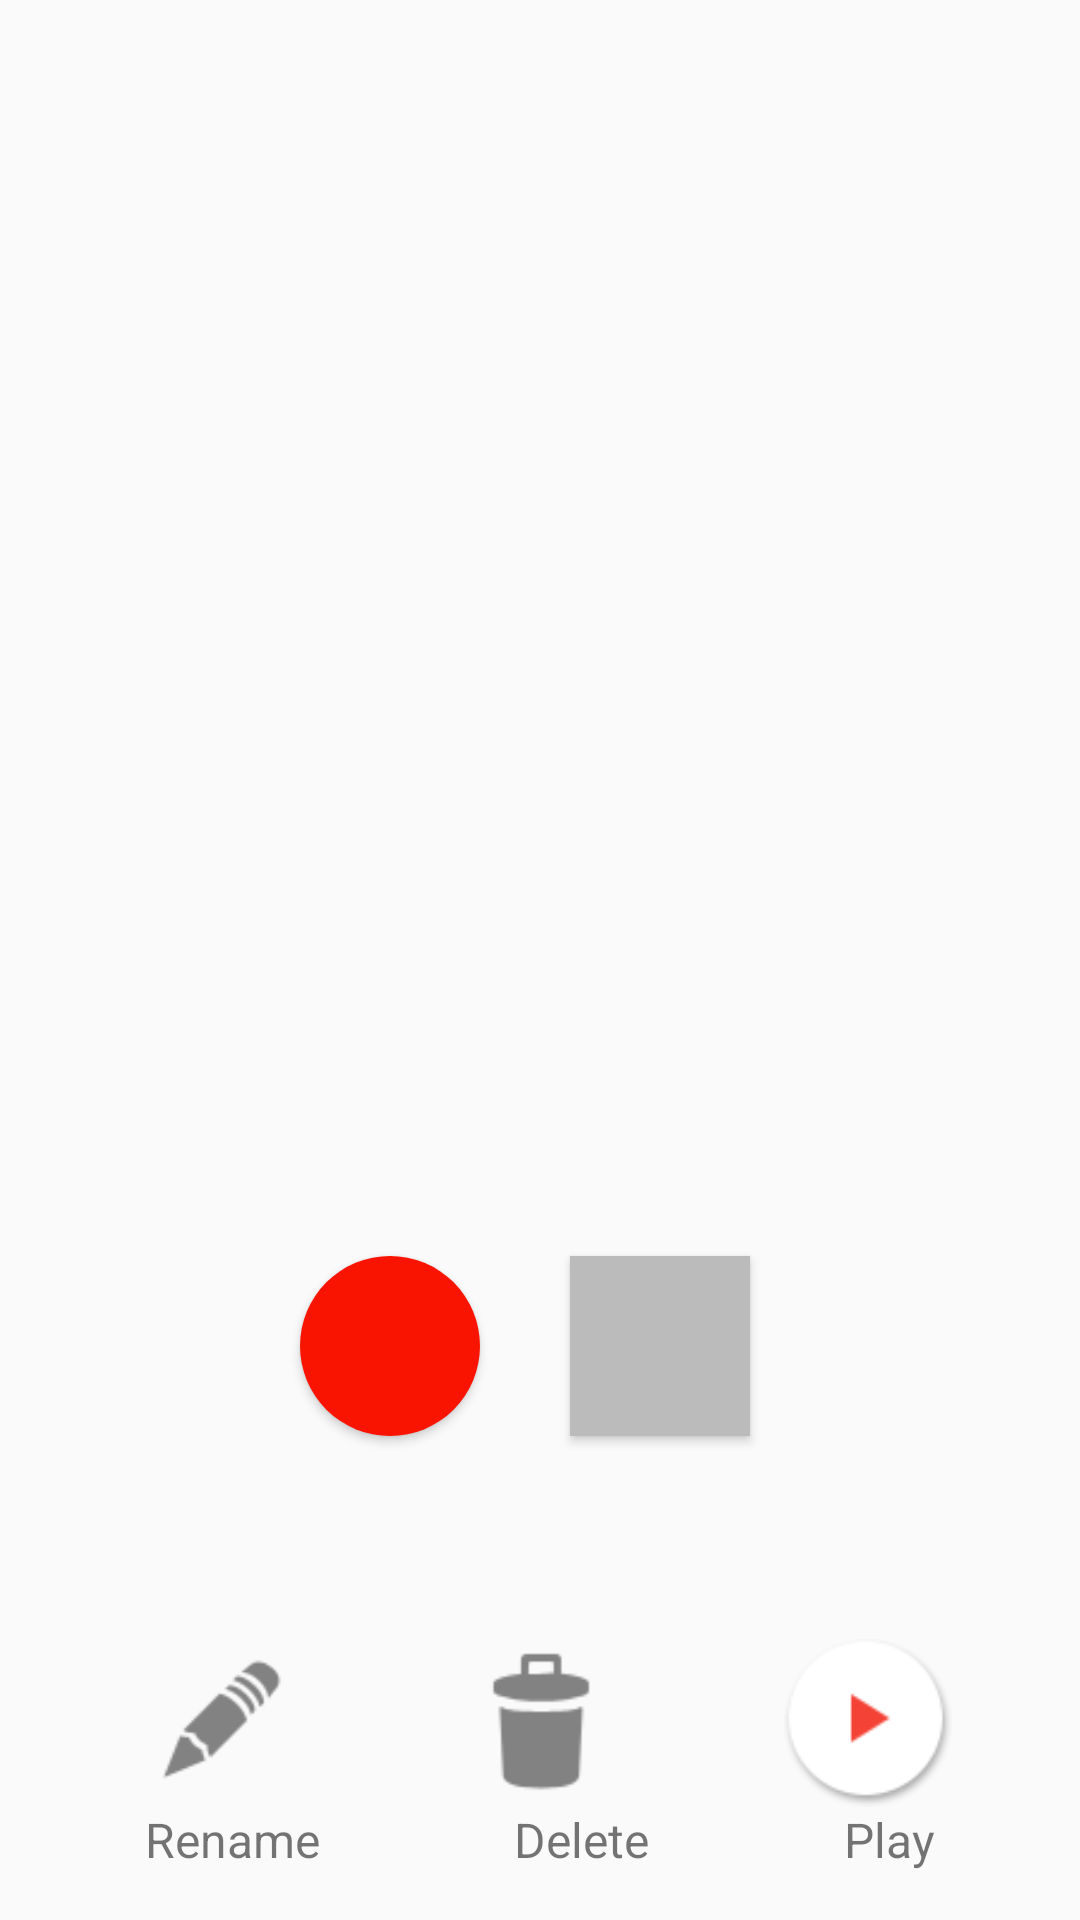

Point at icon controls on the screen. Image size 1080*1920, points as (x,y).
edit: (222,1719)
record: (390,1346)
